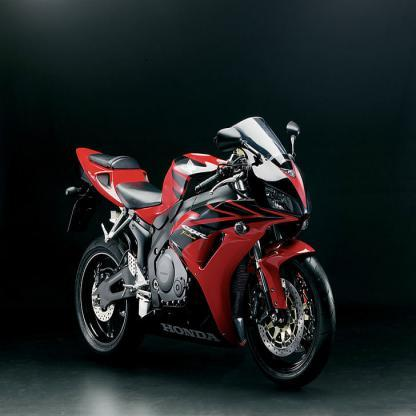Motorcycle: (59, 110, 337, 386)
